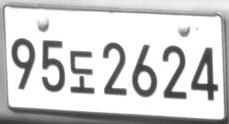2: (161, 44, 187, 99), (102, 42, 127, 96)
4: (190, 47, 218, 101)
5: (41, 39, 66, 93)
6: (131, 44, 157, 97)
9: (10, 37, 36, 89)
도: (69, 50, 95, 94)
